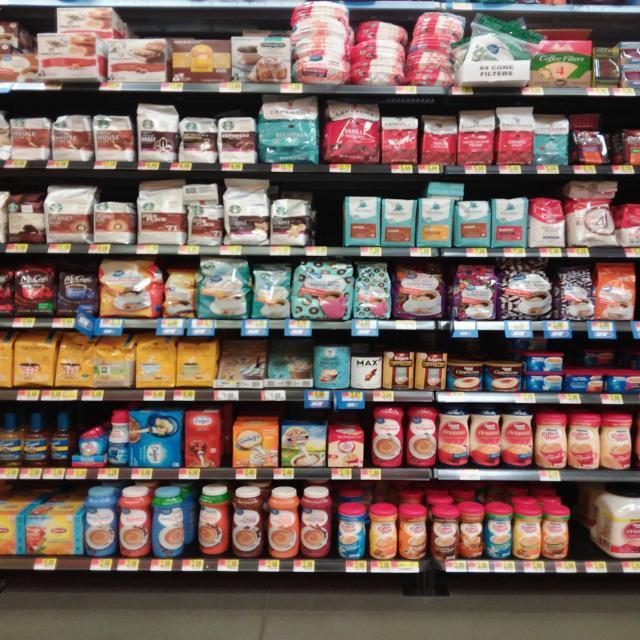empty: (318, 186, 342, 256), (570, 499, 593, 572)
